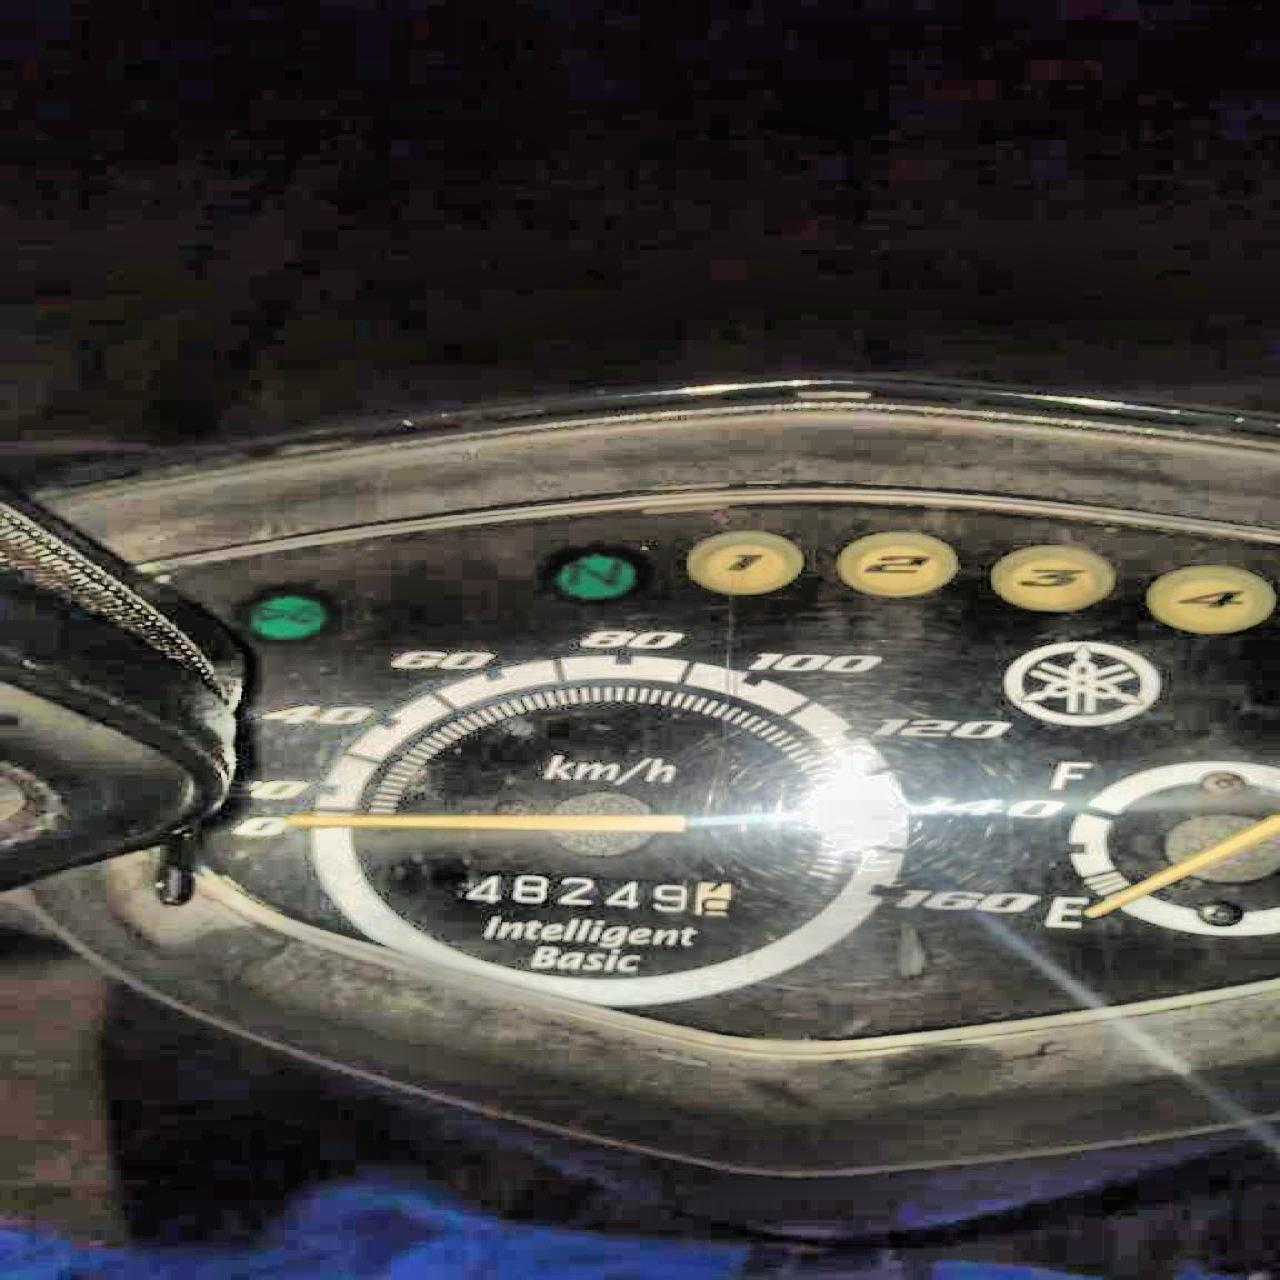2: (556, 877, 593, 904)
4: (602, 880, 635, 908), (464, 876, 498, 903)
8: (511, 873, 546, 903), (697, 896, 731, 920)
9: (652, 884, 687, 911)
odometer: (451, 869, 736, 918)
